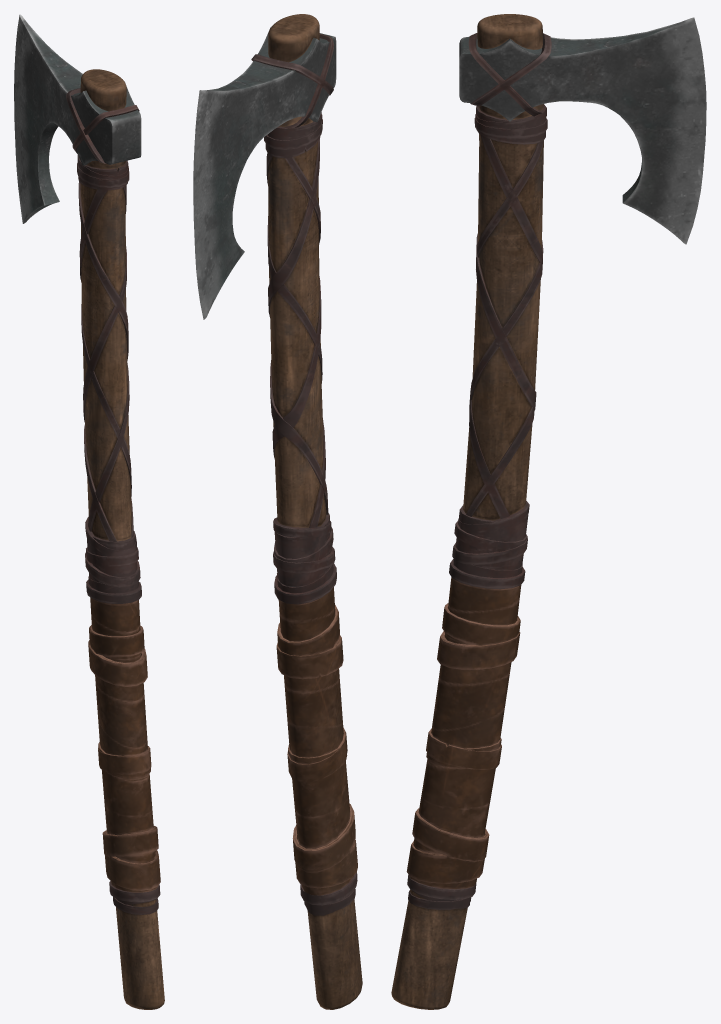
Rendered from SM_Axe.fbx.
3 renders of one model, left to right at view 1: azimuth 30°, elevation 25°; view 2: azimuth 150°, elevation 25°; view 3: azimuth 270°, elevation 25°, orthographic. The views are drawn at different scales.
Parts seen in each view (by area): view 1: SM_Axe_LOD0; view 2: SM_Axe_LOD0; view 3: SM_Axe_LOD0.
Boxes of the visible parts, bbox=[...] form: SM_Axe_LOD0: bbox=[14, 14, 164, 1009]; SM_Axe_LOD0: bbox=[193, 14, 362, 1009]; SM_Axe_LOD0: bbox=[391, 14, 706, 1009].
Bounding box in the file's own units: 4.67 × 24 × 83.09.
1 material, 1 textured.
